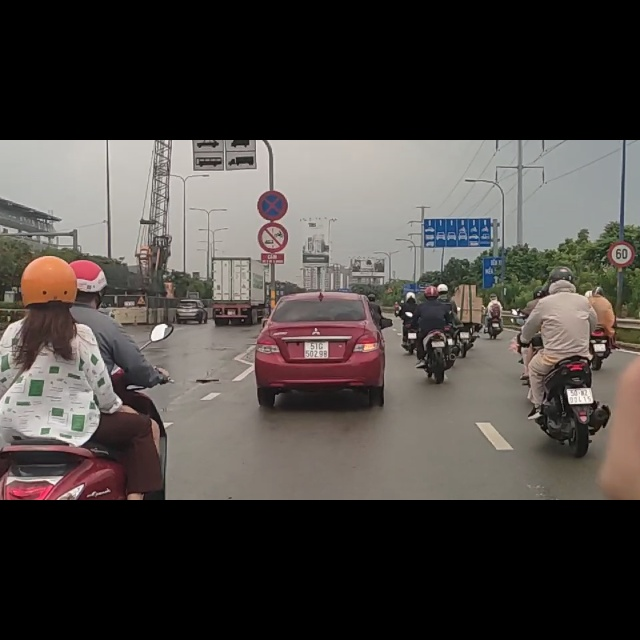bien_cam: (257, 89, 287, 142), (609, 180, 635, 225)
